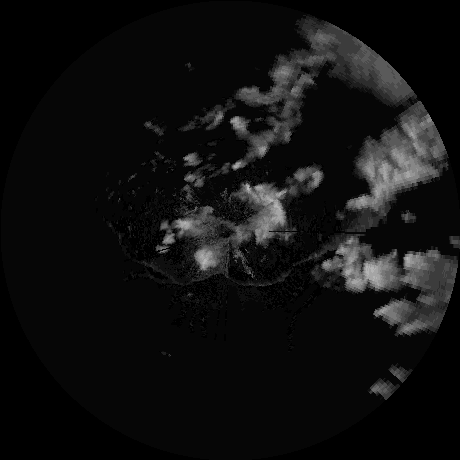frontgust: (227, 254, 321, 289), (139, 252, 225, 286)
